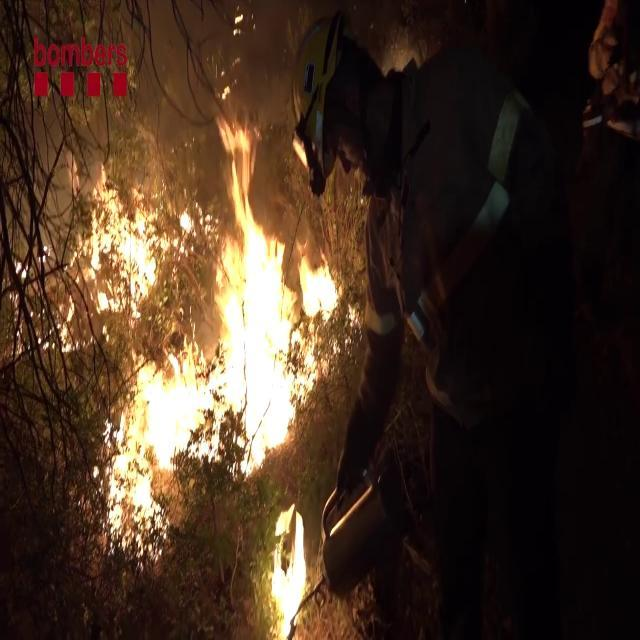Fire: (78, 106, 346, 534), (71, 164, 174, 336), (265, 498, 311, 635)
